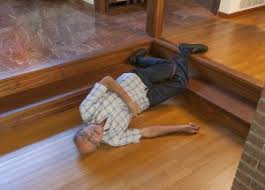falling: (76, 43, 200, 155)
